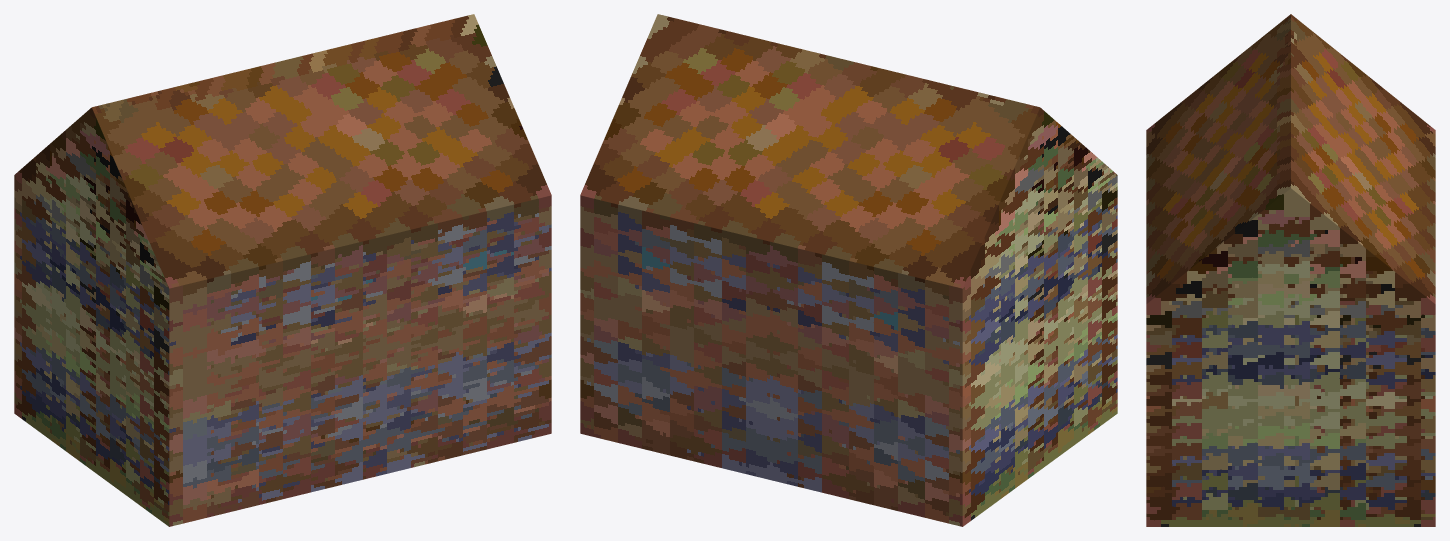
The model's file is dum_19_chatky.glb.
3 renders of one model, left to right at view 1: azimuth 30°, elevation 25°; view 2: azimuth 150°, elevation 25°; view 3: azimuth 270°, elevation 25°, orthographic. The views are drawn at different scales.
Size of the model in its own units: 6.93 by 6.28 by 4.87.
1 material, 1 textured.
